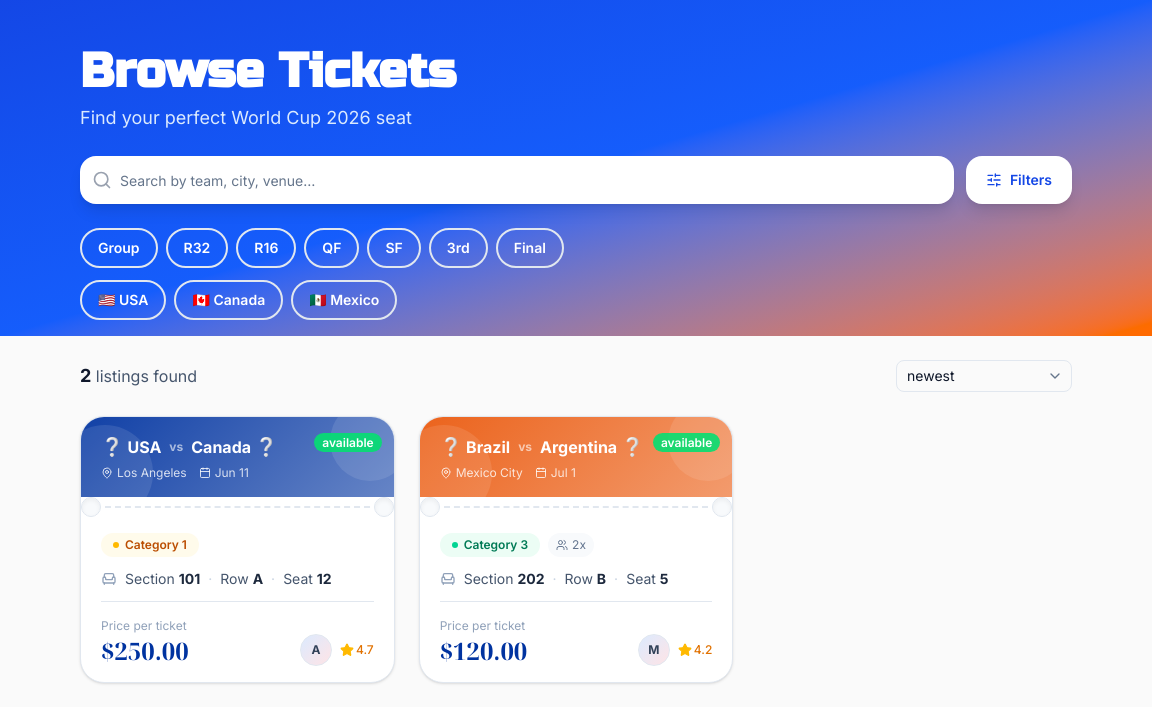
it: BrowsePage › toggles stage chip off to show all results
This screenshot has width=1152, height=707.
What coordinates should you click on to do the following:
click the button with test id "stage-chip-QF"
I would click on:
 (332, 248)
Its box is [304,228,360,268].
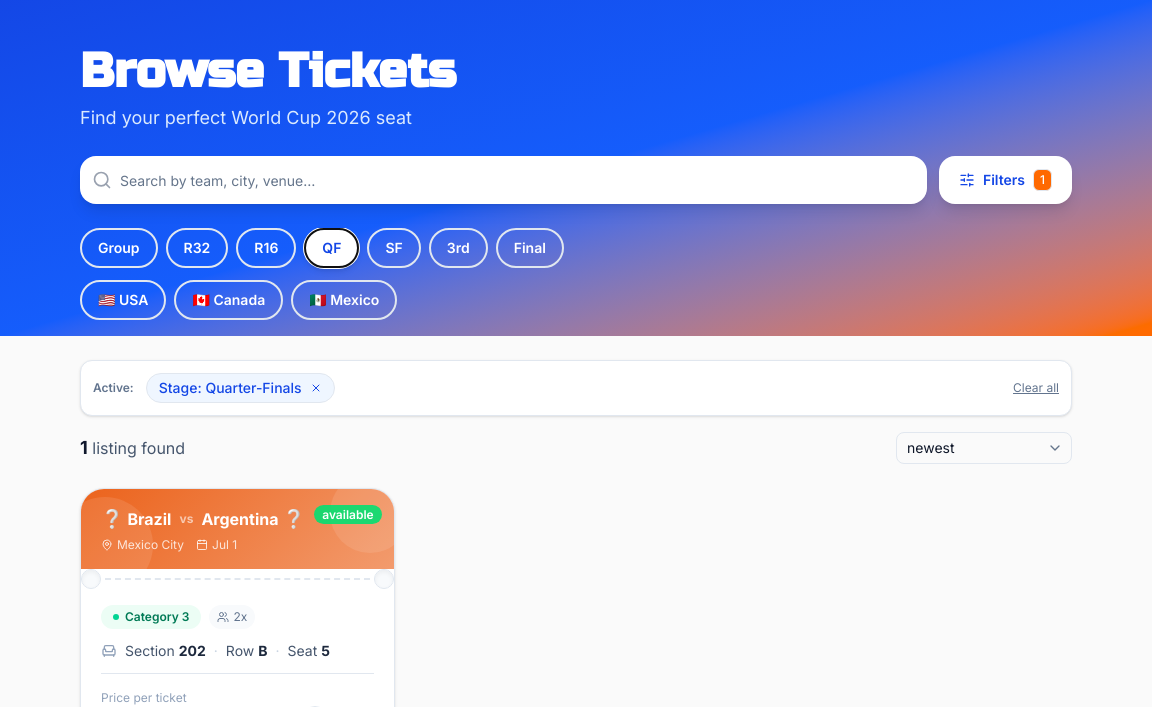
Expected: the element with test id "results-count" reads "1 listing found", [80,434,185,462]
What coordinates should you click on to do the following:
click the button with test id "stage-chip-QF"
I would click on:
 (332, 248)
Its box is [304,228,360,268].
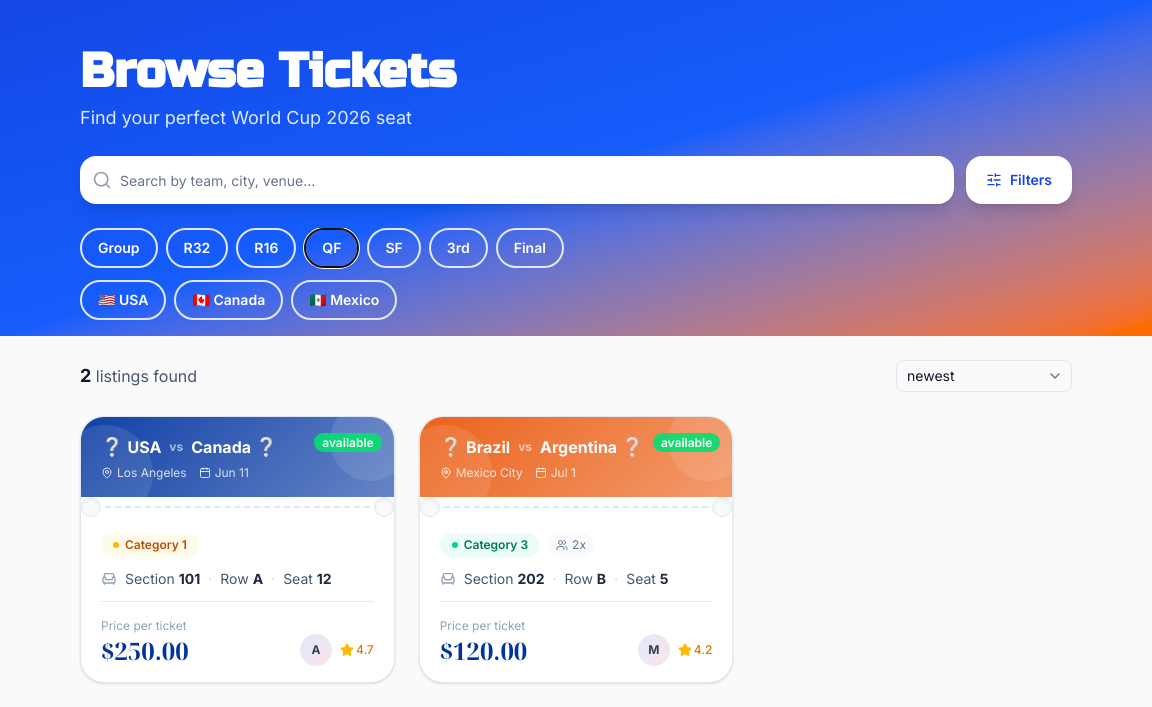
Expected: the element with test id "results-count" reads "2 listings found", [80,362,197,390]
